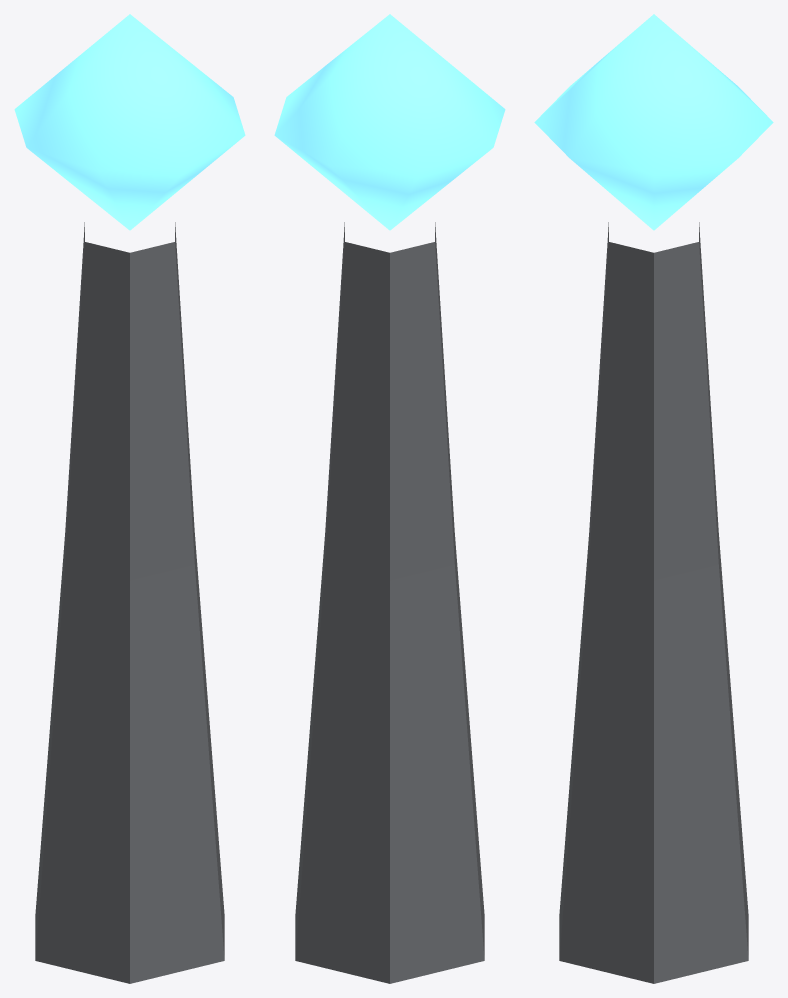
File: lunar-rift-beacon-blue.glb
The picture shows the model from 3 angles, left to right: view 1: azimuth 30°, elevation 25°; view 2: azimuth 150°, elevation 25°; view 3: azimuth 270°, elevation 25°; orthographic projection.
Parts seen in each view (by area): view 1: BEACON_BLUE; view 2: BEACON_BLUE; view 3: BEACON_BLUE.
Boxes of the visible parts, x1,y1,x2,y2 form: BEACON_BLUE: (14, 14, 245, 983); BEACON_BLUE: (274, 14, 505, 983); BEACON_BLUE: (534, 14, 773, 983).
Bounding box in the file's own units: 2.3 × 9.8 × 2.3.
